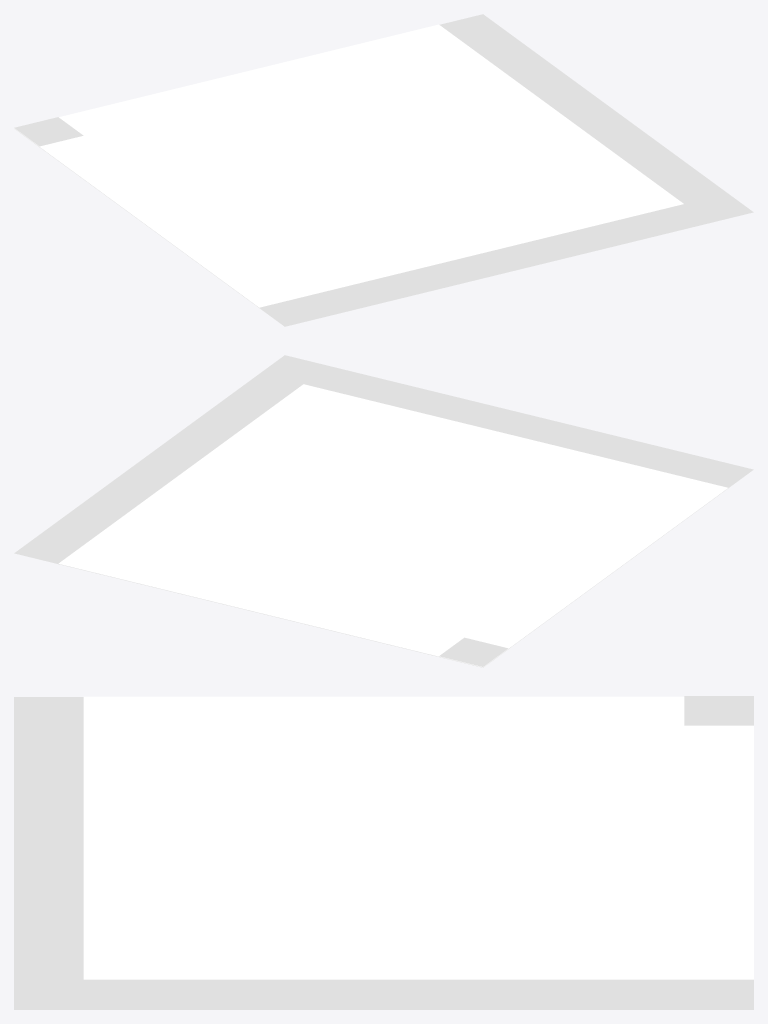
File: tile_for_home_1x1.020.glb
The picture shows the model from 3 angles, top to bottom: view 1: azimuth 30°, elevation 25°; view 2: azimuth 150°, elevation 25°; view 3: azimuth 270°, elevation 25°; orthographic projection. The views are drawn at different scales.
Parts seen in each view (by area): view 1: tile_for_home_1x1.020(Clone); view 2: tile_for_home_1x1.020(Clone); view 3: tile_for_home_1x1.020(Clone).
Part boxes in pixels (x1,y1,x2,y2): tile_for_home_1x1.020(Clone): (14, 14, 753, 326); tile_for_home_1x1.020(Clone): (14, 355, 753, 667); tile_for_home_1x1.020(Clone): (14, 696, 753, 1009).
Bounding box in the file's own units: 8 × 0.0128 × 8.
Materials: 1 (1 with a texture image).
